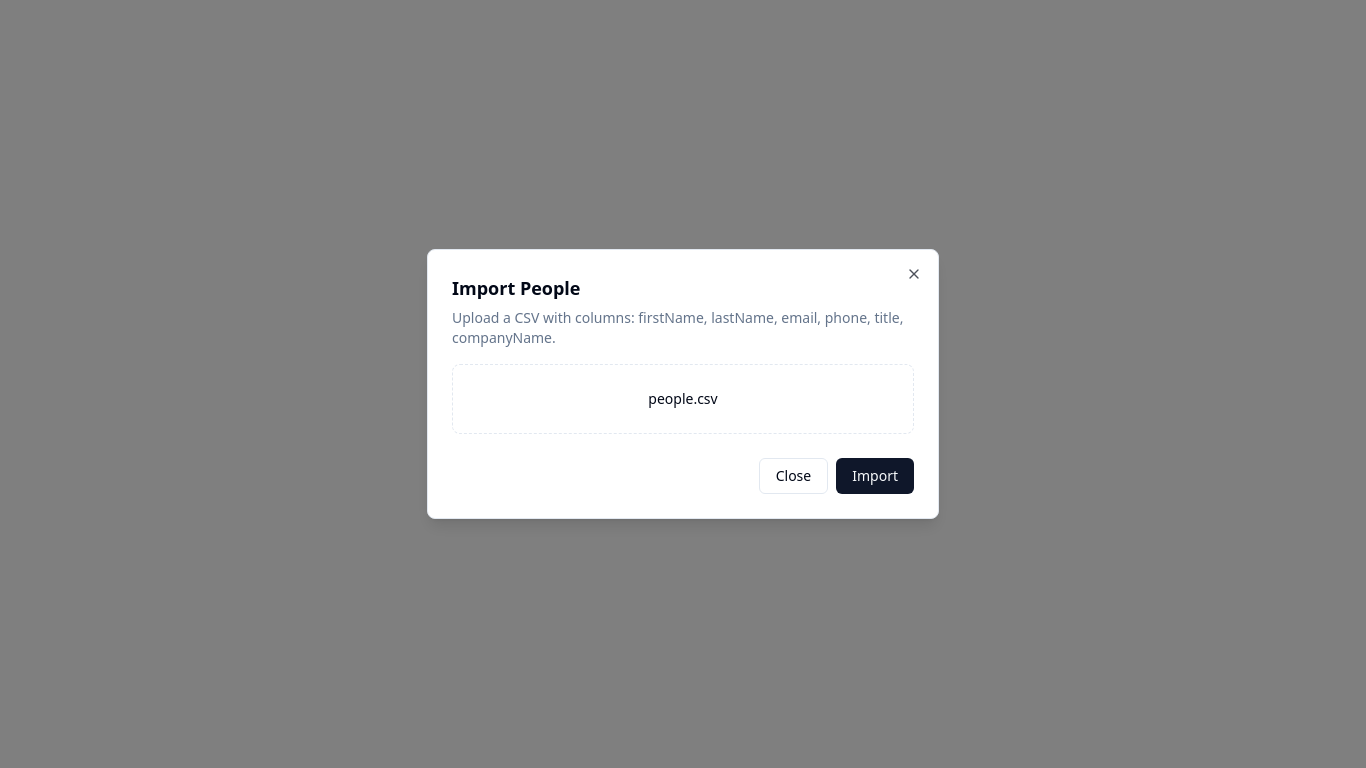
Test case: ImportDialog › uploads a file and shows the import summary with errors
This screenshot has width=1366, height=768.
Earlier steps of the test are not shown.
Click the button "Import".
click(875, 476)  # box x1=836 y1=458 x2=914 y2=494
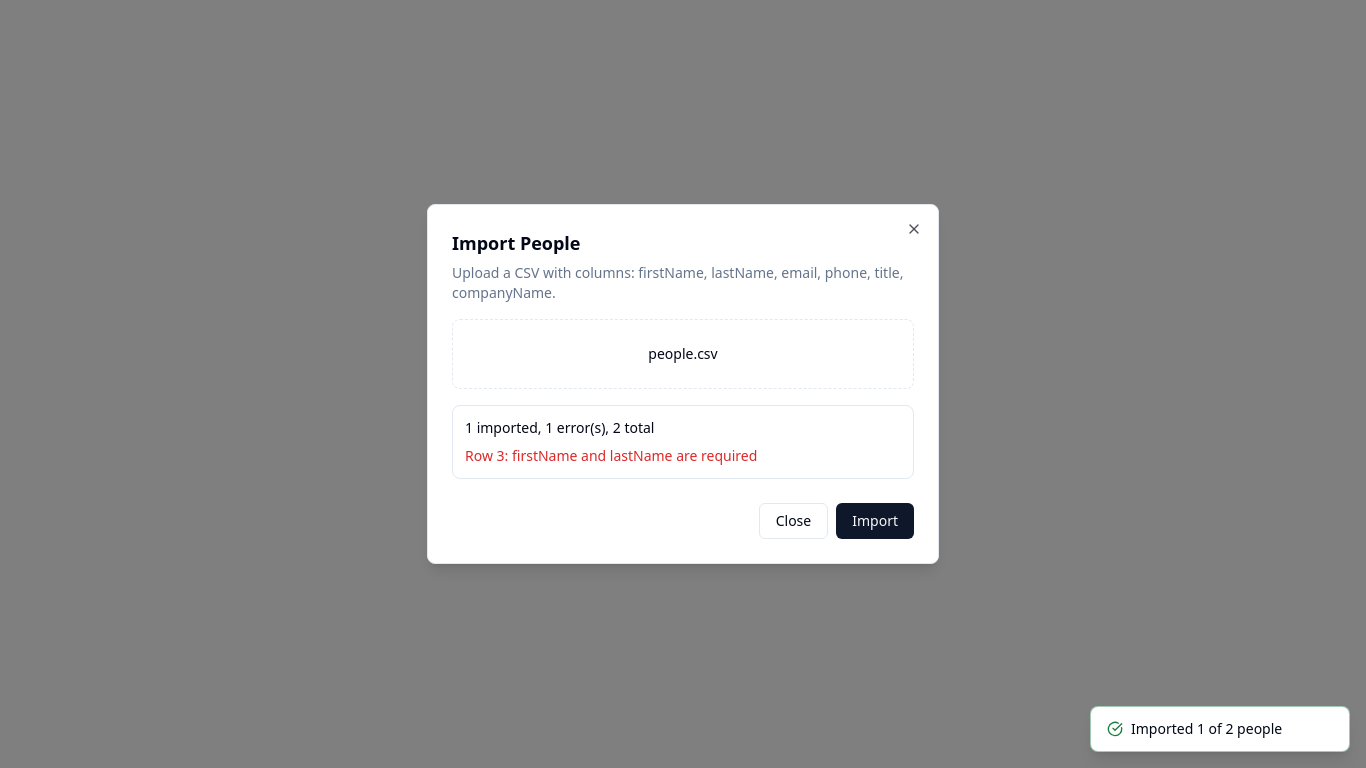
Expected: the text "1 imported, 1 error(s), 2 total" is shown, x1=465 y1=418 x2=654 y2=437
Expected: the list item "Row 3: firstName and lastName are required" is shown, x1=465 y1=446 x2=757 y2=465
